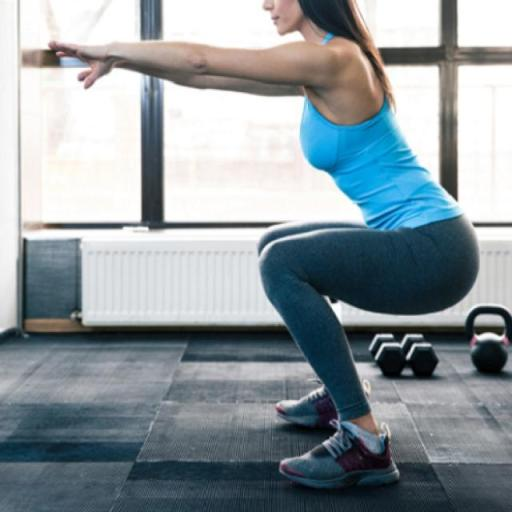Normal_SquatsWithBarbell: (11, 0, 511, 497)
